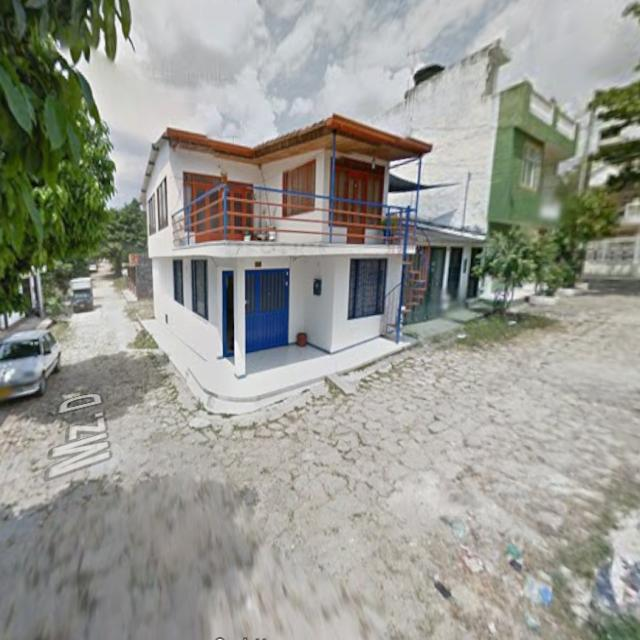Fachada: (143, 114, 430, 377), (379, 40, 578, 234), (405, 224, 484, 324)
